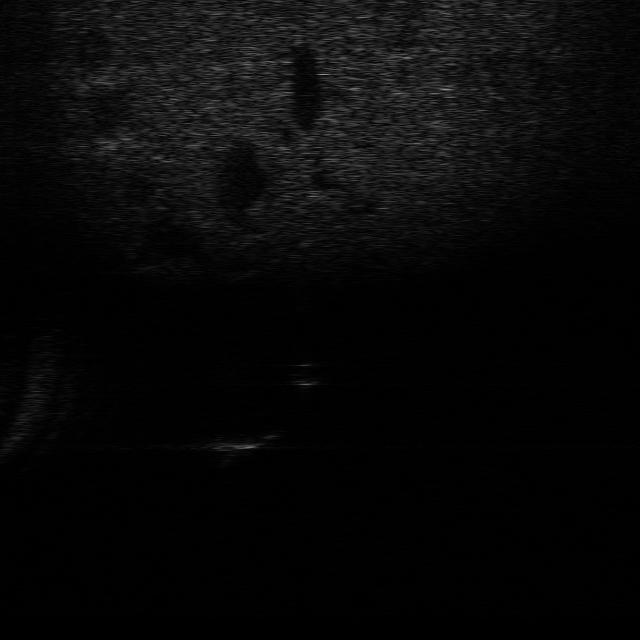ball: (277, 356, 325, 390)
square cage: (201, 425, 284, 467)
